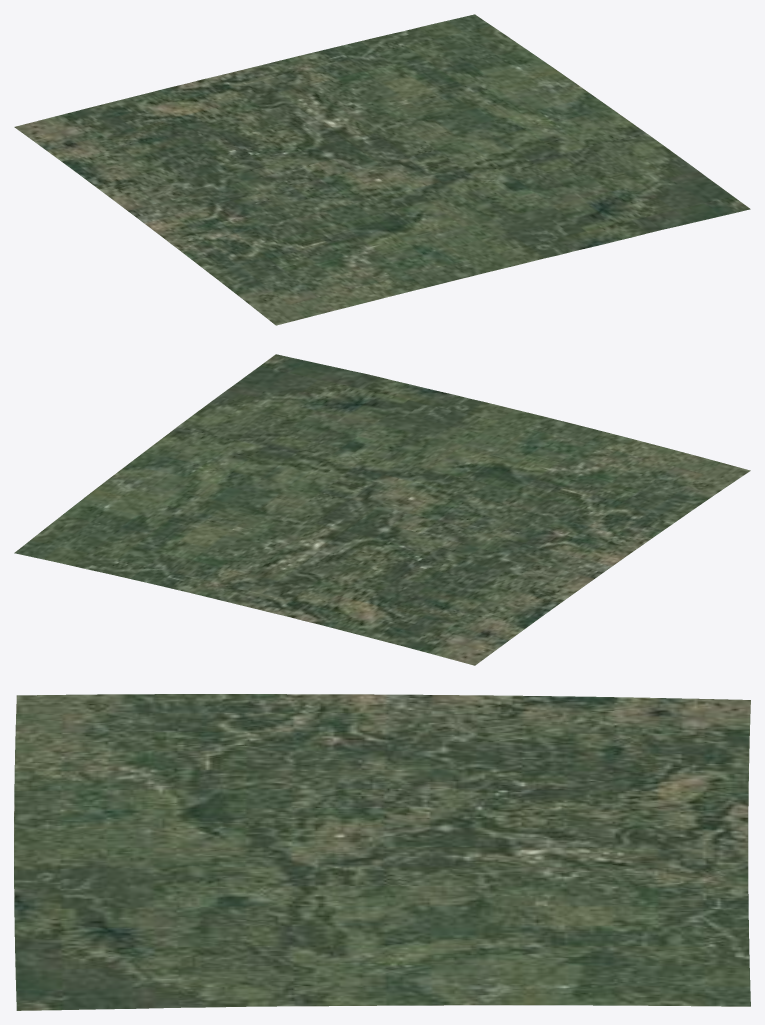
3 views of the same model, one above another, from view 1: azimuth 30°, elevation 25°; view 2: azimuth 150°, elevation 25°; view 3: azimuth 270°, elevation 25° (orthographic). The views are drawn at different scales.
Size of the model in its own units: 251643 by 2522 by 247831.
1 material, 1 textured.
